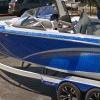Boat: (2, 6, 99, 99)
